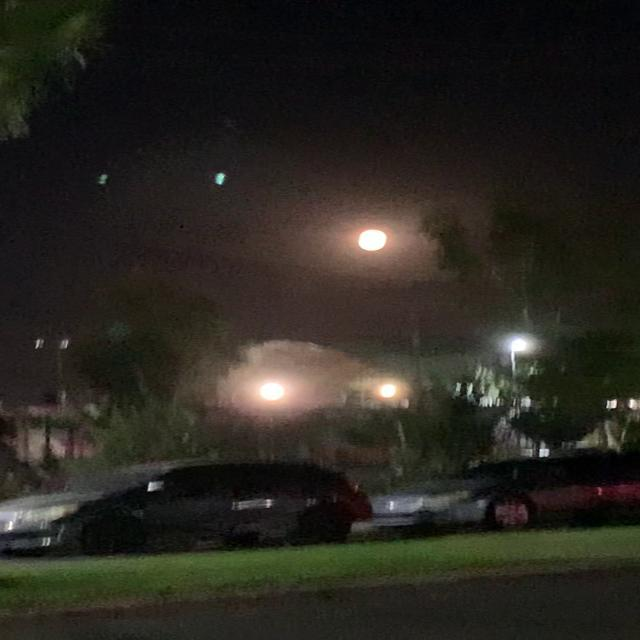moon: (354, 230, 407, 256)
